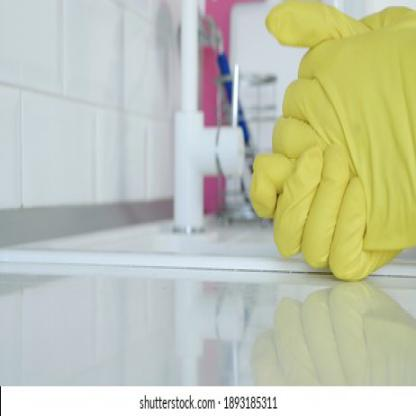with_gloves: (247, 3, 415, 284)
